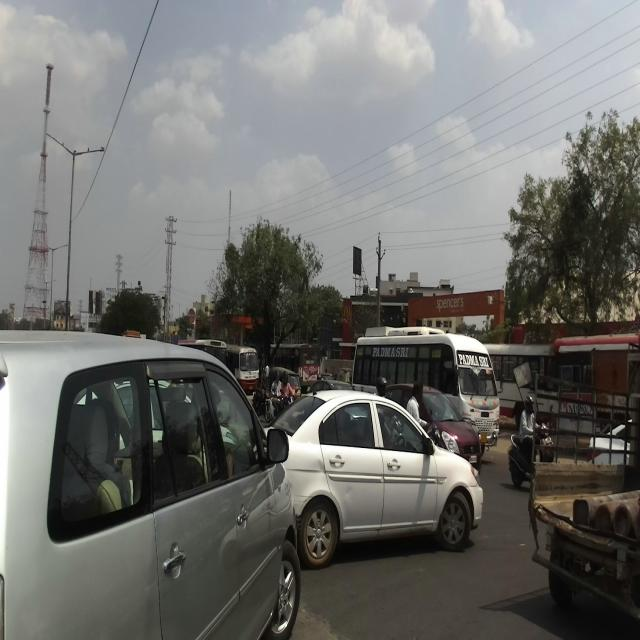car: (0, 328, 301, 639), (259, 377, 484, 569), (382, 383, 482, 482)
mini-bus: (350, 325, 501, 459)
scooter: (506, 422, 554, 488)
truck: (528, 342, 640, 640)
